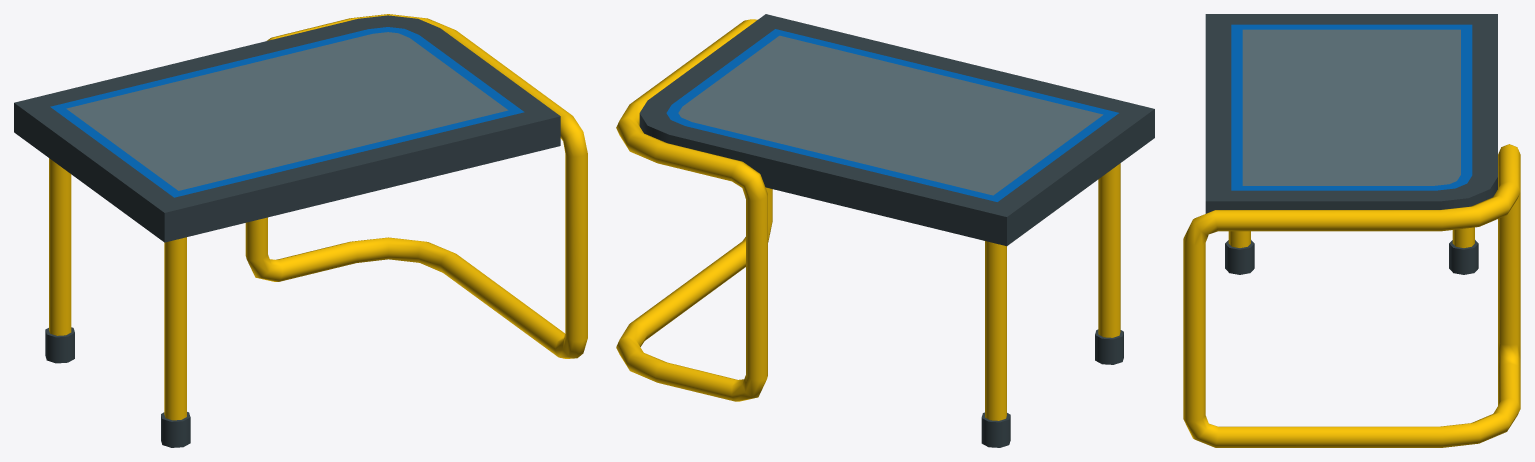
The model's file is Desk_001.fbx.
3 renders of one model, left to right at view 1: azimuth 30°, elevation 25°; view 2: azimuth 150°, elevation 25°; view 3: azimuth 270°, elevation 25°, orthographic. The views are drawn at different scales.
Parts seen in each view (by area): view 1: Desk_001; view 2: Desk_001; view 3: Desk_001.
Boxes of the visible parts, x1,y1,x2,y2 form: Desk_001: (14, 14, 587, 447); Desk_001: (616, 14, 1154, 447); Desk_001: (1183, 14, 1520, 447).
Bounding box in the file's own units: 156 × 113 × 88.92.
